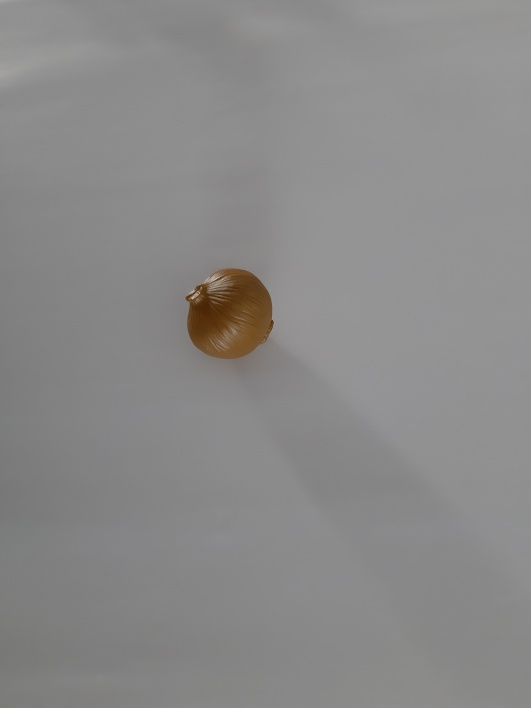onion: (167, 259, 292, 370)
